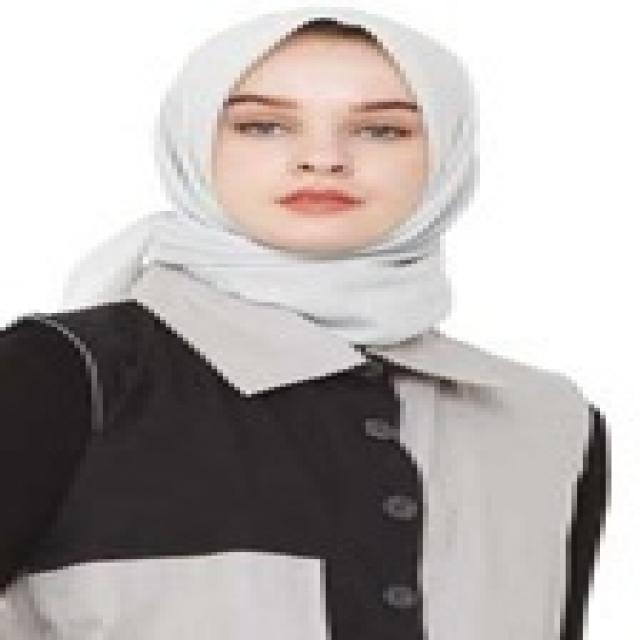head: (182, 6, 499, 252)
